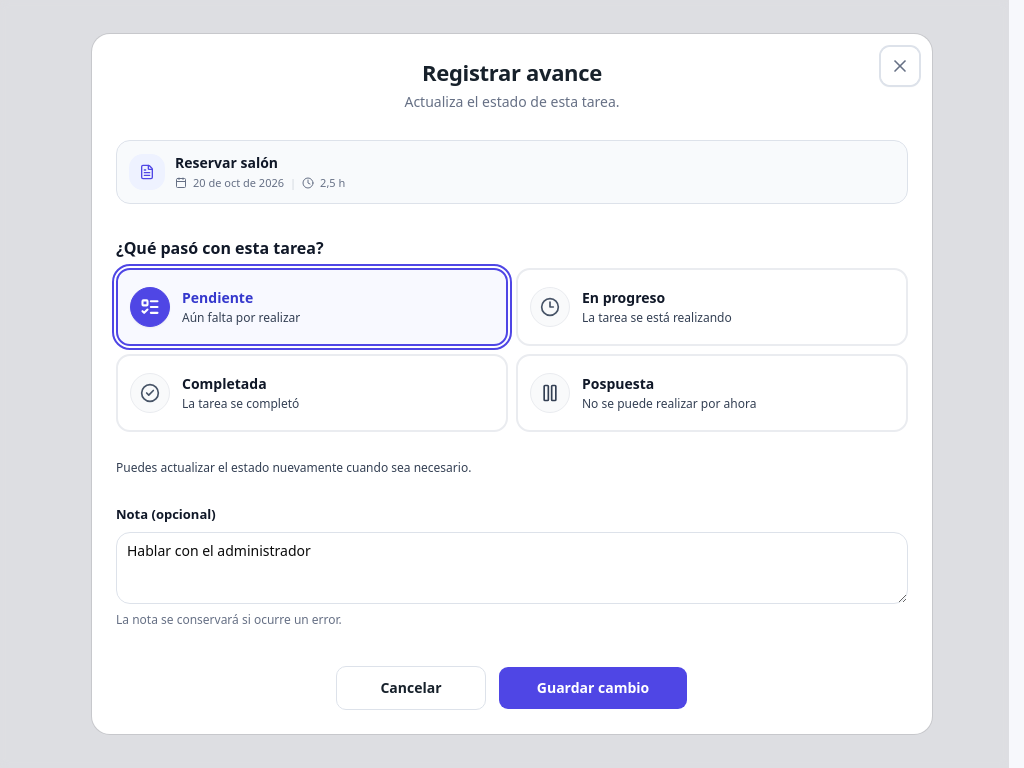
it: RegisterProgressDialog › permite actualizar una tarea a En progreso
Click the button "En progreso La tarea se está realizando" at (712, 307), box [516, 268, 908, 346]
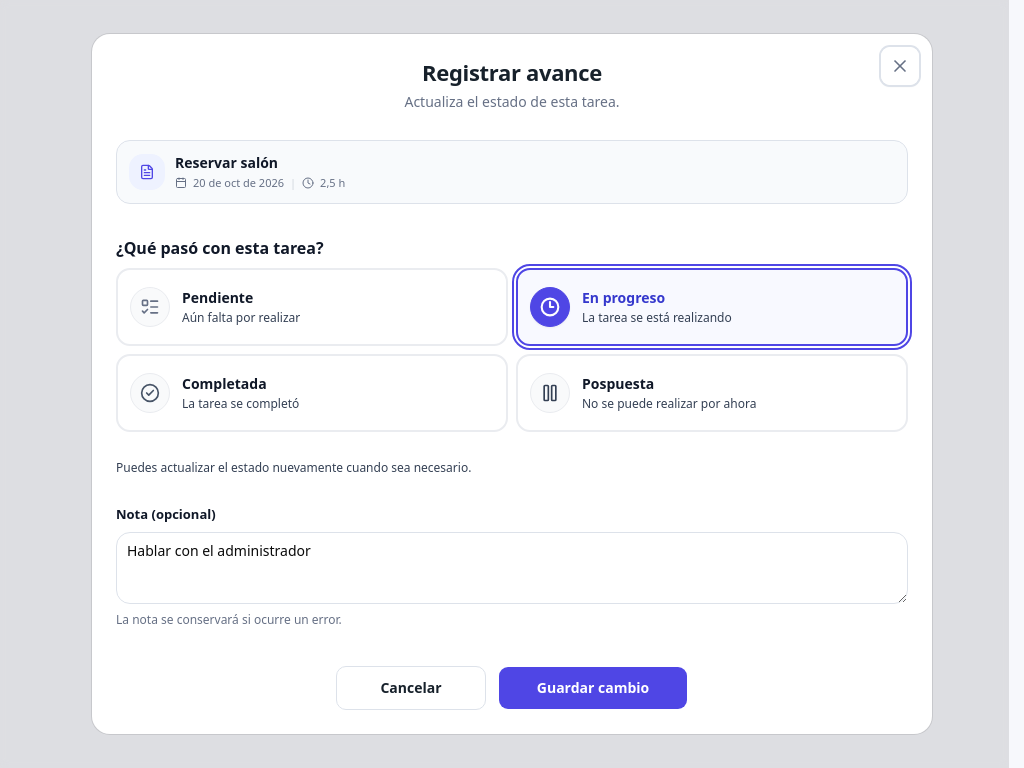
Click the button "Guardar cambio" at (593, 688), box [498, 666, 688, 710]
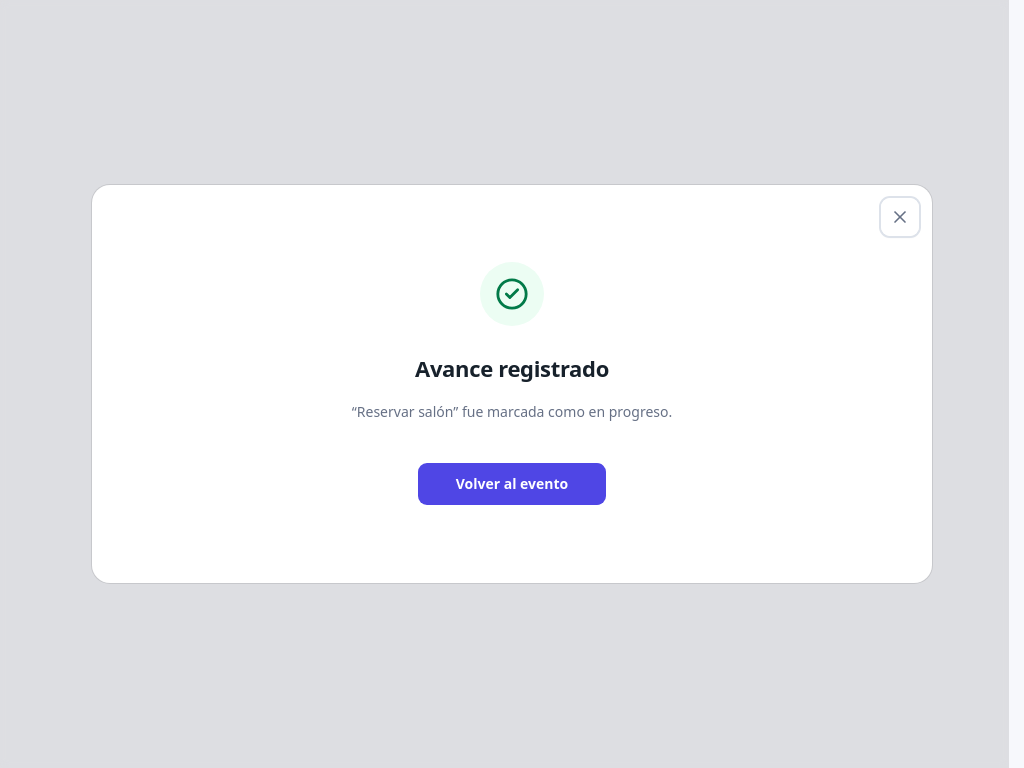
Check: the text "“Reservar salón” fue marcada como en progreso." is shown, box [352, 402, 672, 422]
